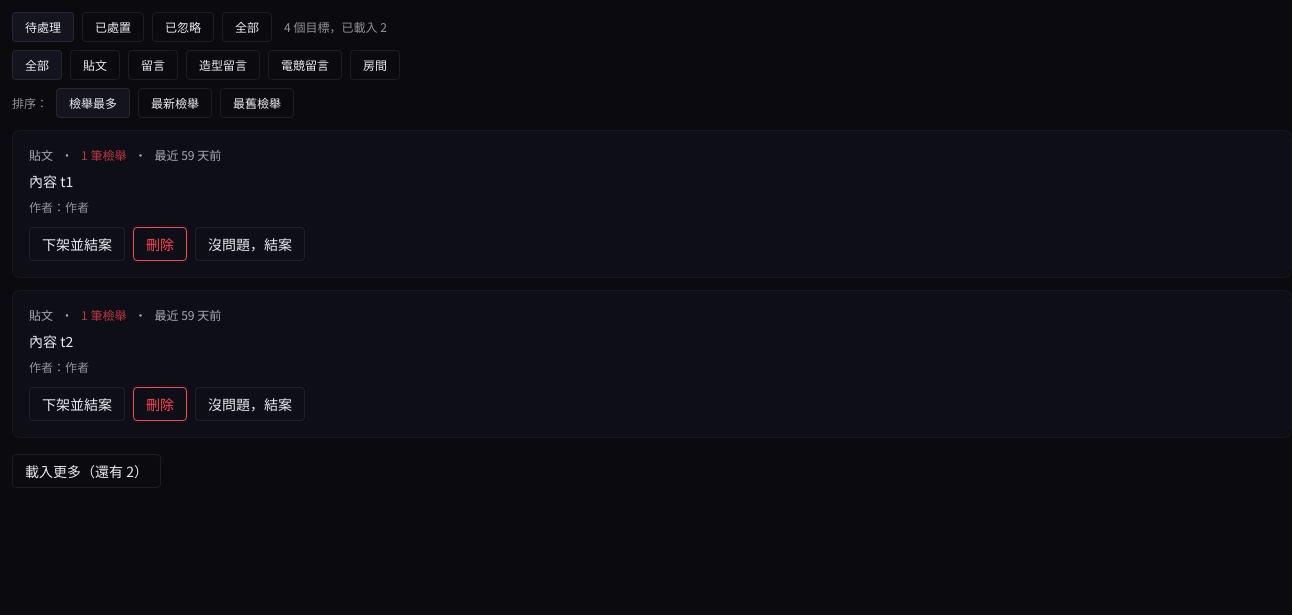
Test case: ReportsTab paging › does not skip a target when an action lands before the next page is queried
The width and height of the screenshot is (1292, 615).
expect the text "4 個目標，已載入 2" is shown: met, box [284,19,387,35]
Click the button "沒問題，結案" below "內容 t1" at (250,244), box [195,227,305,261]
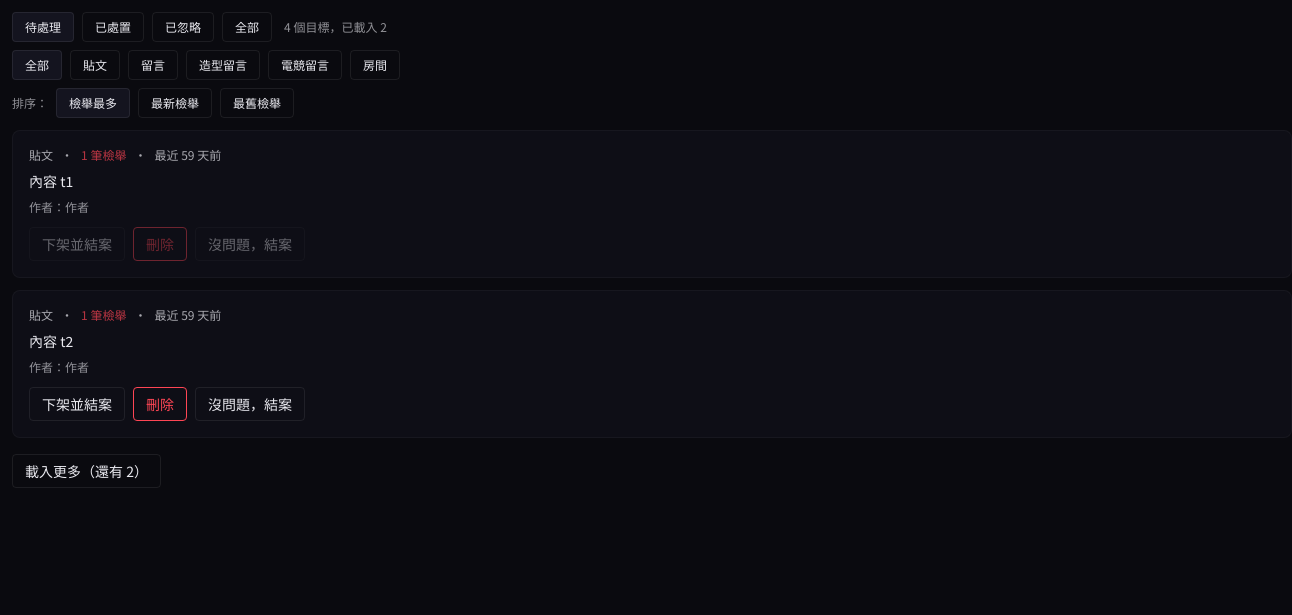
Click the button "載入更多（還有 2）" at (86,471), box [12,454,161,488]
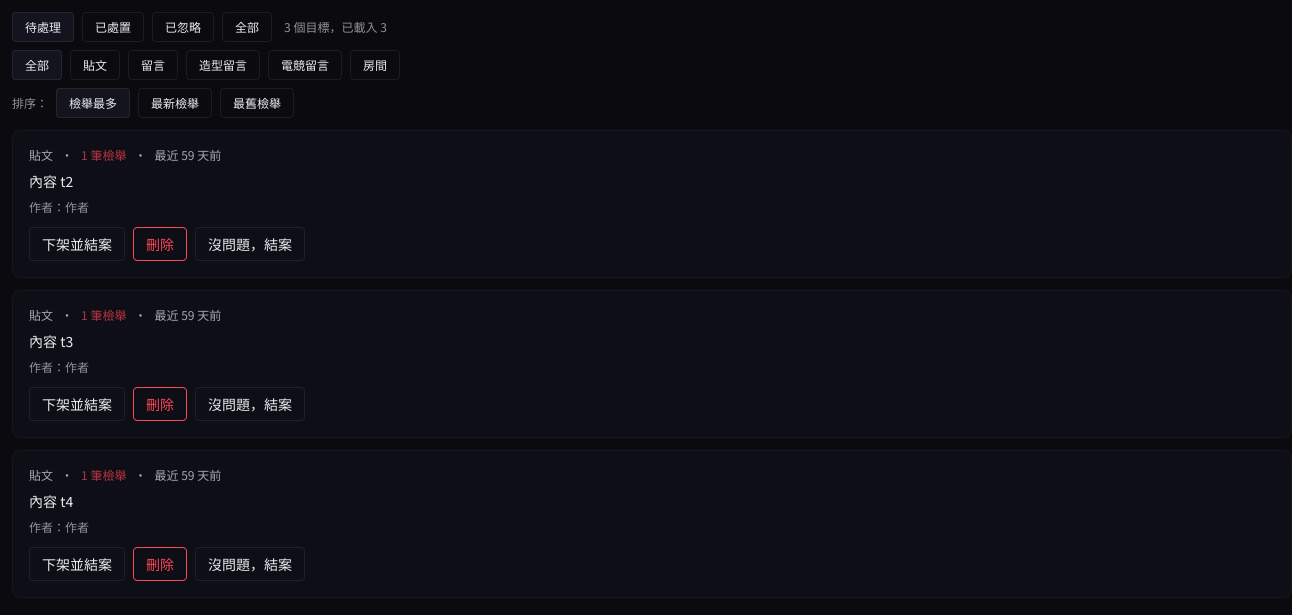
expect the text "3 個目標，已載入 3" is shown: met, box [284,19,387,35]
expect the button "載入更多" is gone: met
